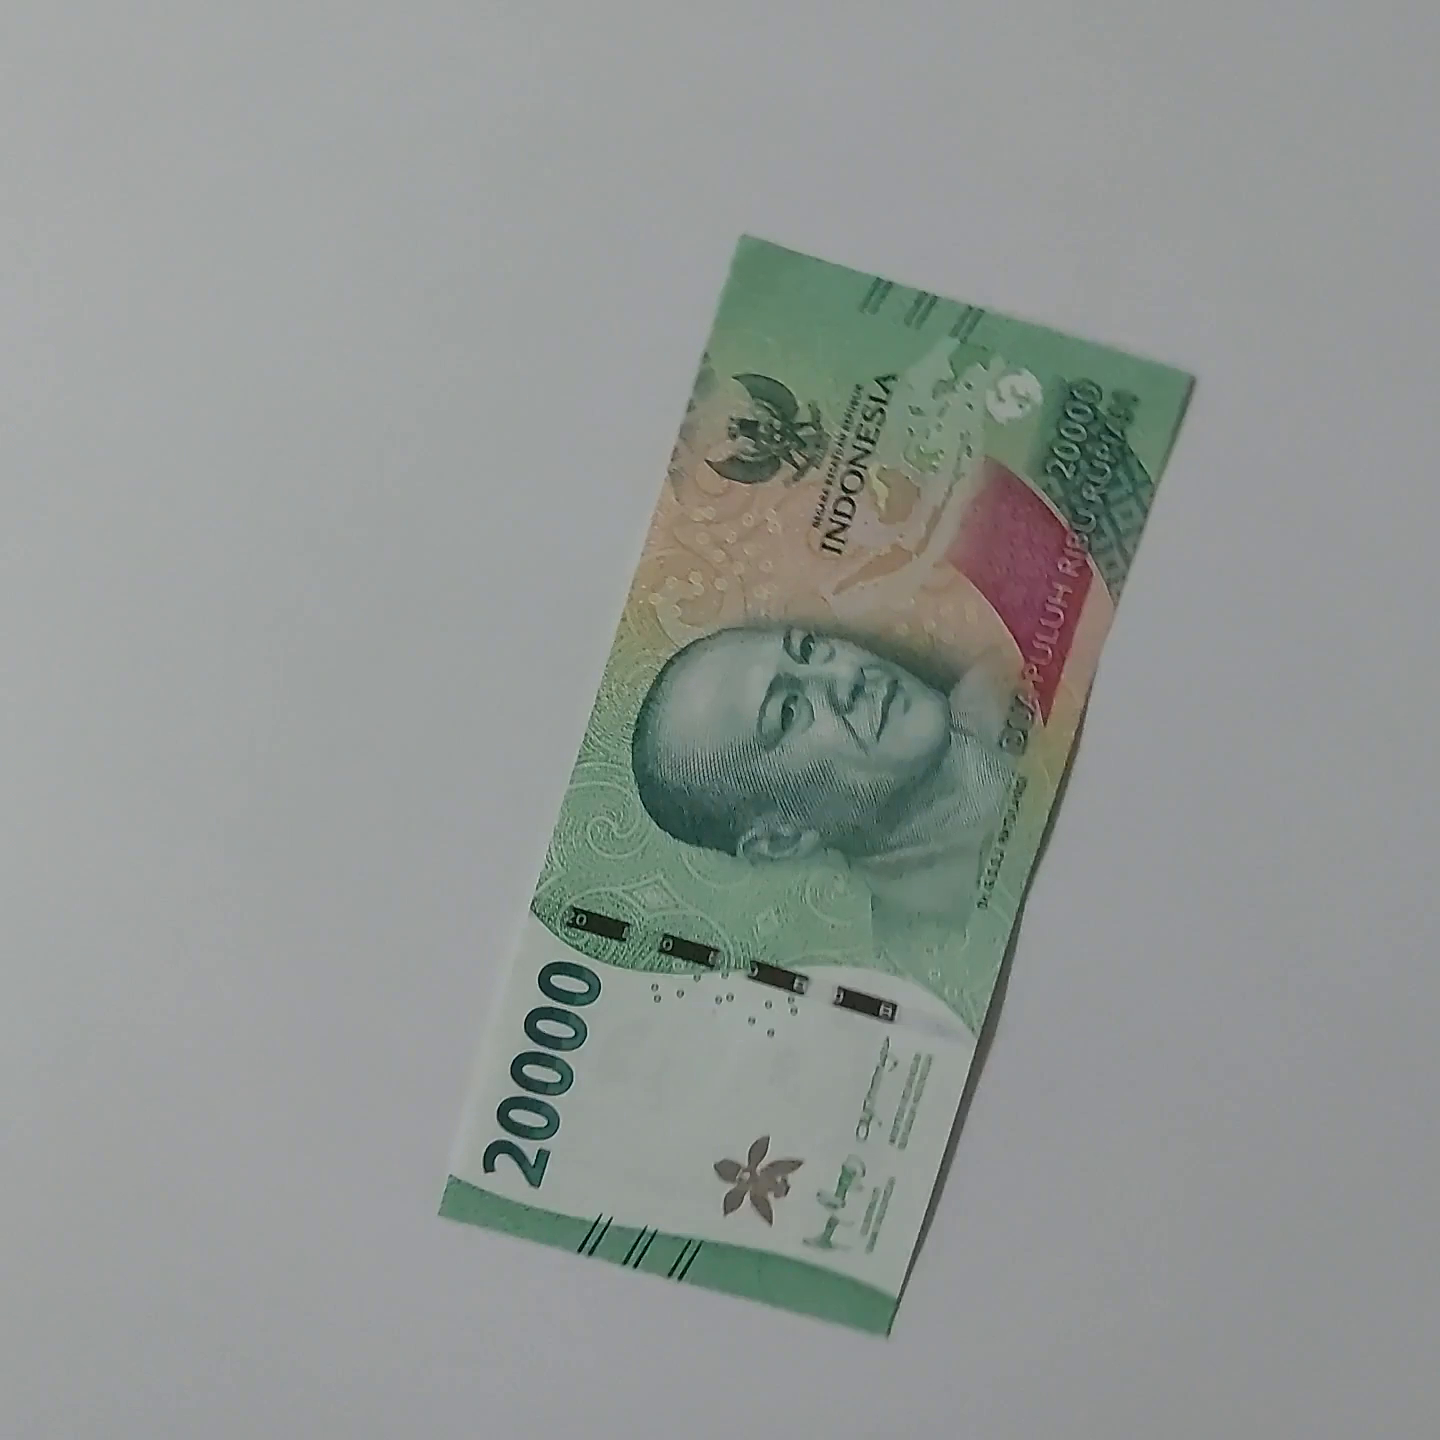20k: (741, 231, 1215, 1247)
